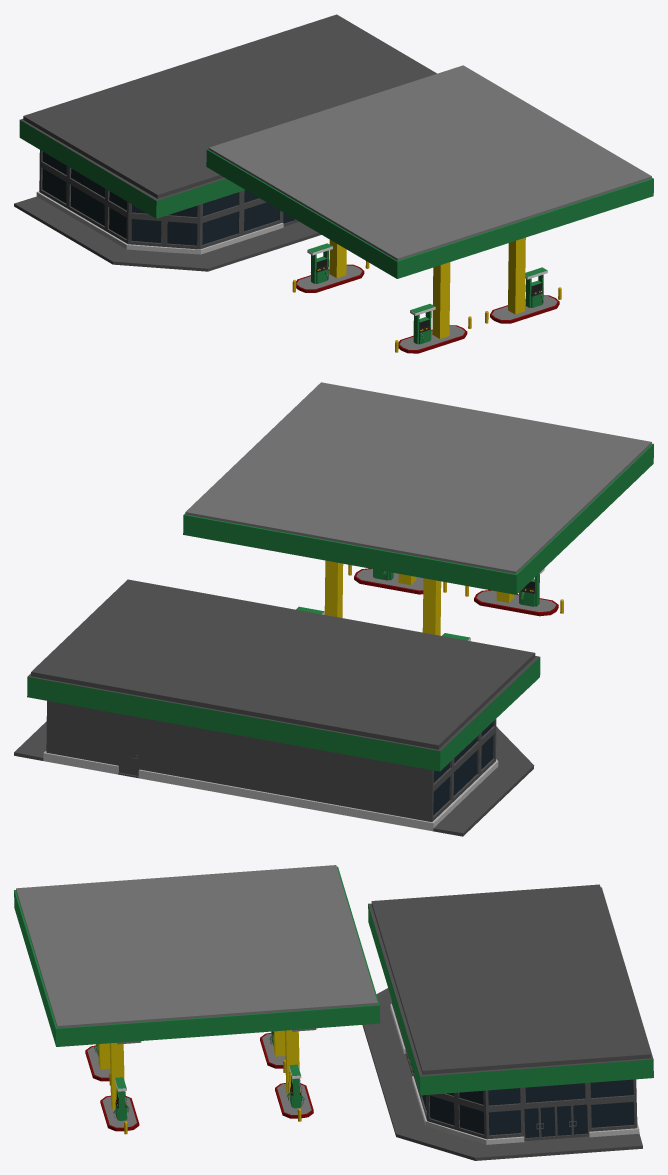
The model's file is fual station.fbx.
3 renders of one model, top to bottom at view 1: azimuth 30°, elevation 25°; view 2: azimuth 150°, elevation 25°; view 3: azimuth 270°, elevation 25°, orthographic. The views are drawn at different scales.
Parts seen in each view (by area): view 1: polySurface55, polySurface66; view 2: polySurface55, polySurface66; view 3: polySurface55, polySurface66.
Part boxes in pixels (x1=…): polySurface55: x1=14, y1=14, x2=561, y2=353; polySurface66: x1=206, y1=65, x2=653, y2=278; polySurface55: x1=14, y1=560, x2=563, y2=836; polySurface66: x1=183, y1=382, x2=653, y2=594; polySurface55: x1=85, y1=884, x2=653, y2=1160; polySurface66: x1=14, y1=865, x2=380, y2=1046.
Size of the model in its own units: 3714 by 1268 by 5094.
